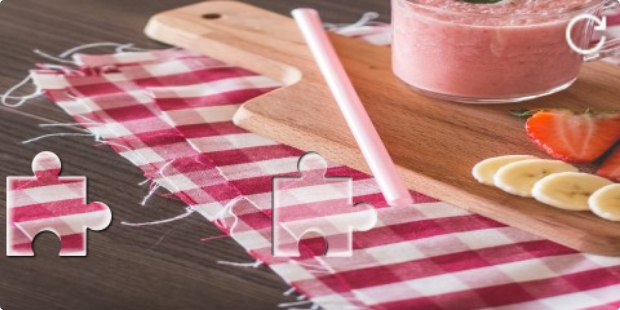target: (273, 152, 376, 258)
